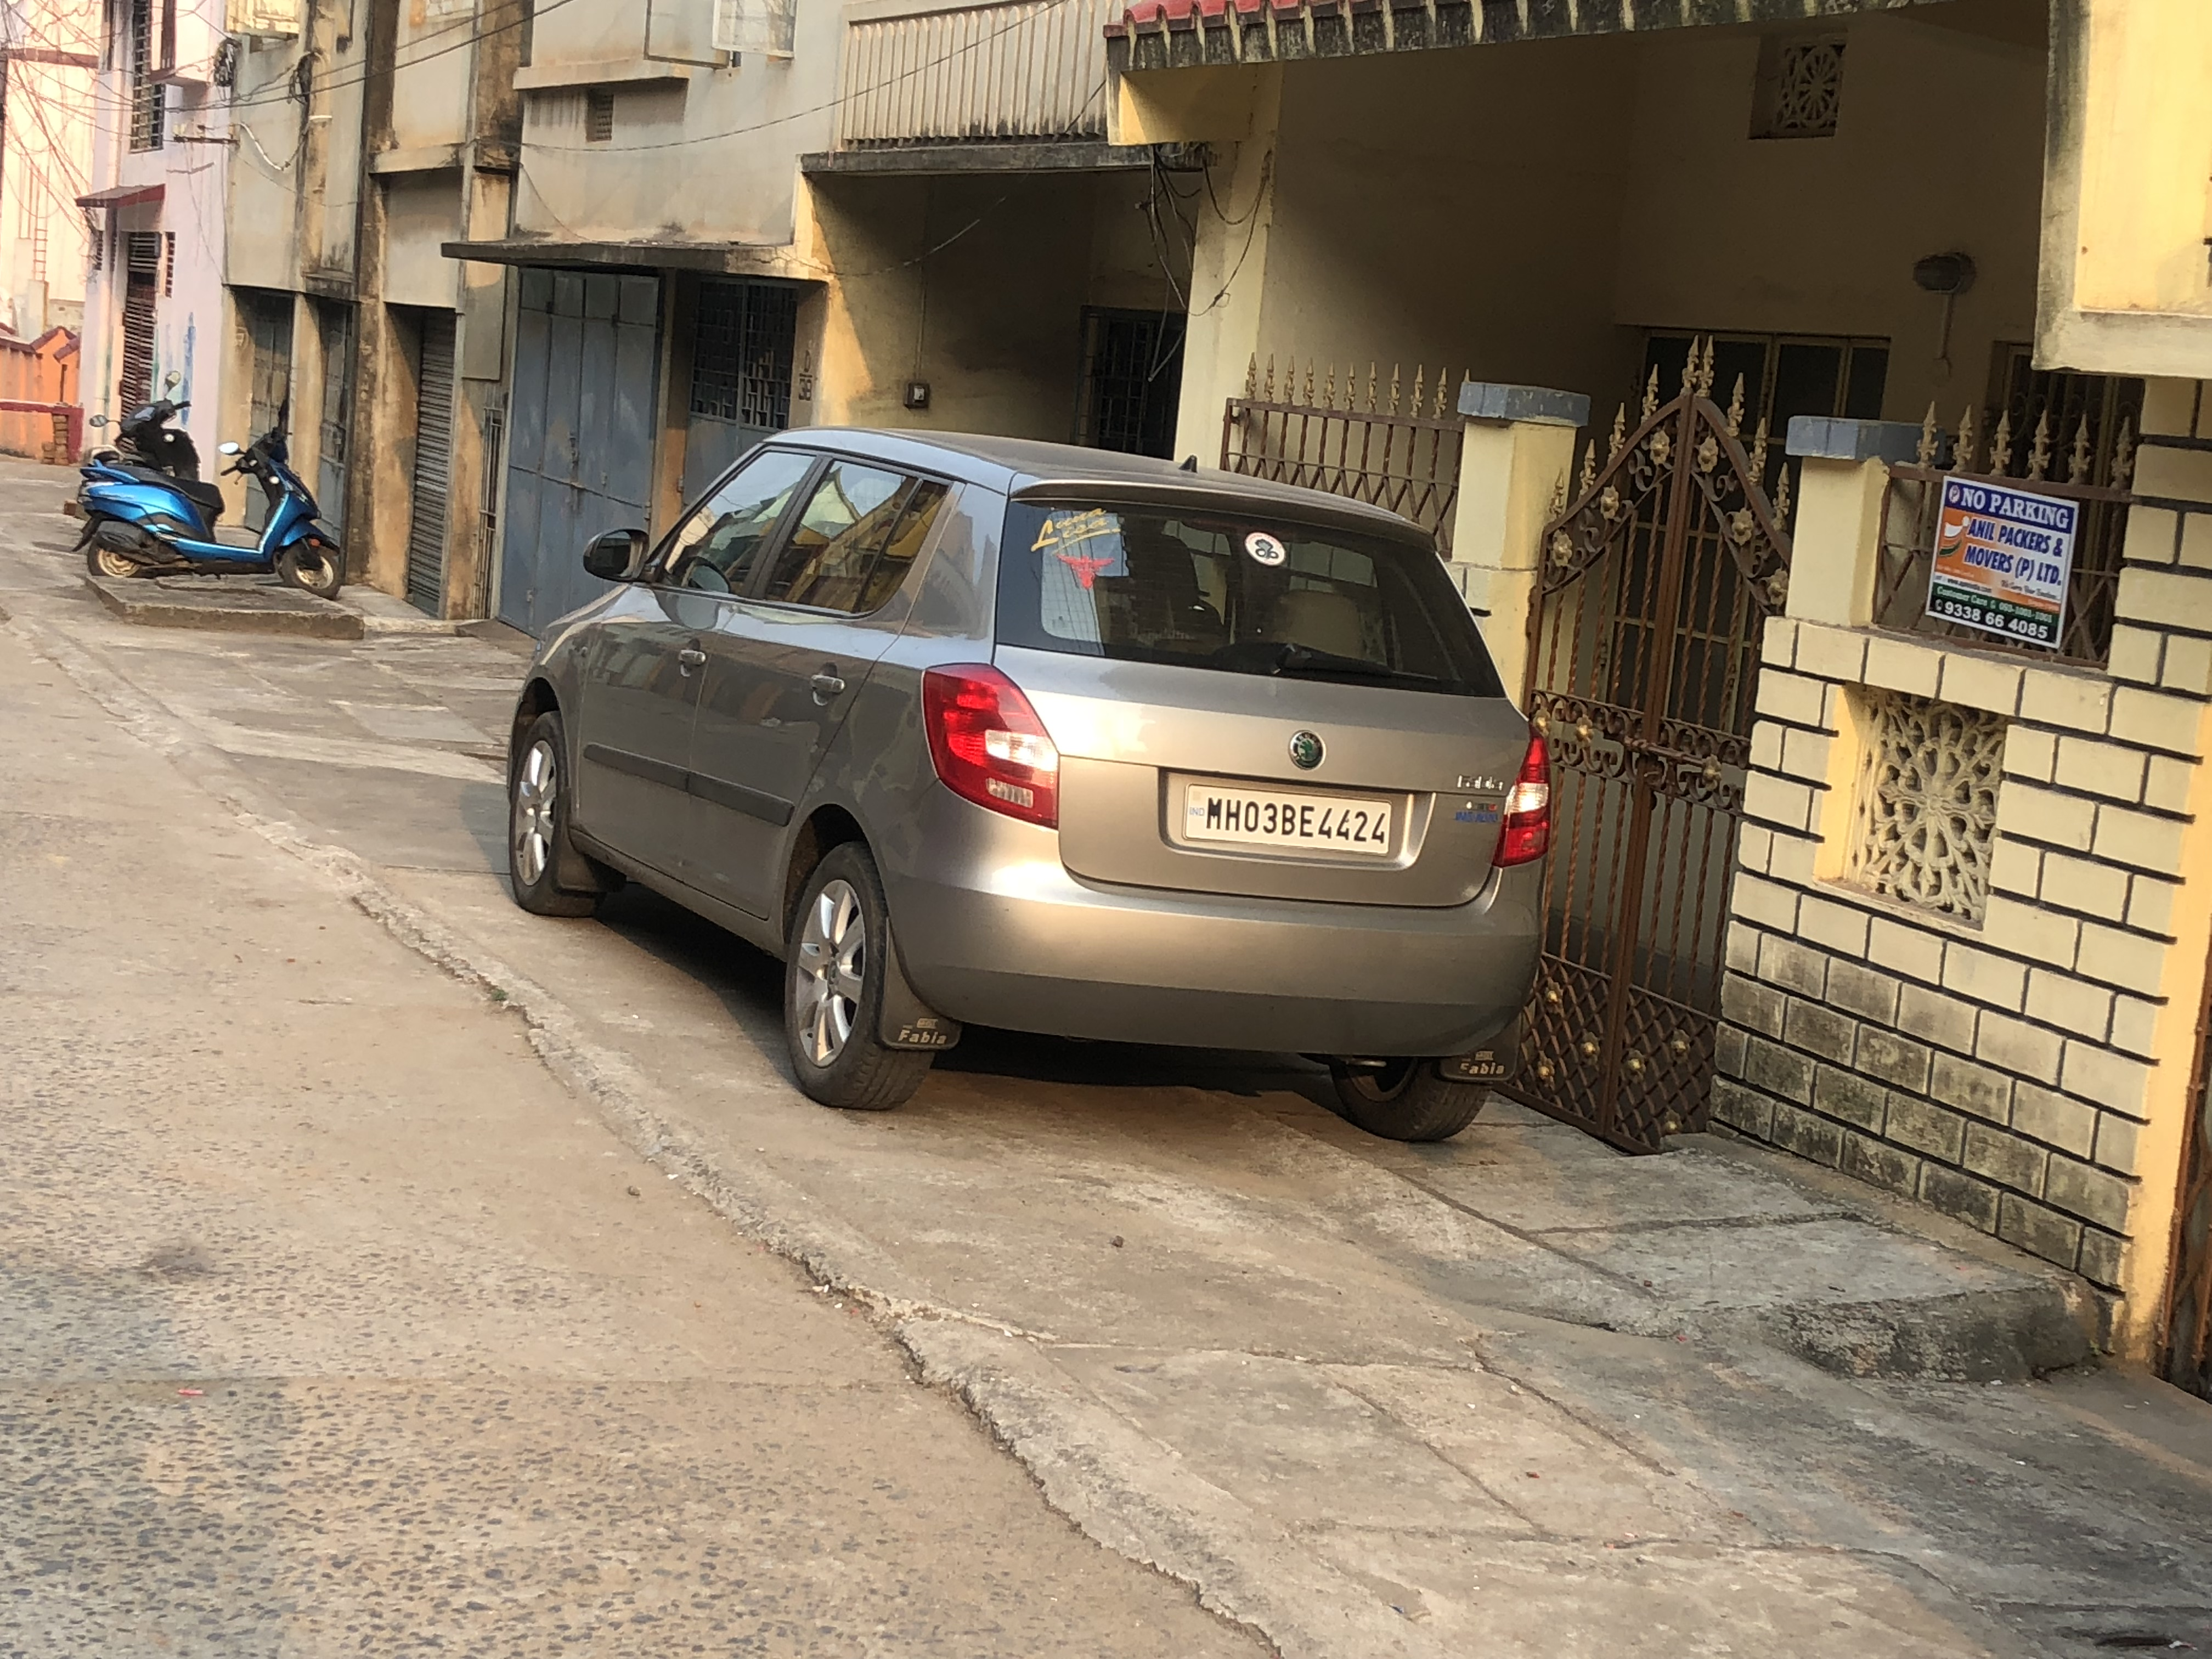licenseplate: (1141, 766, 1427, 882)
